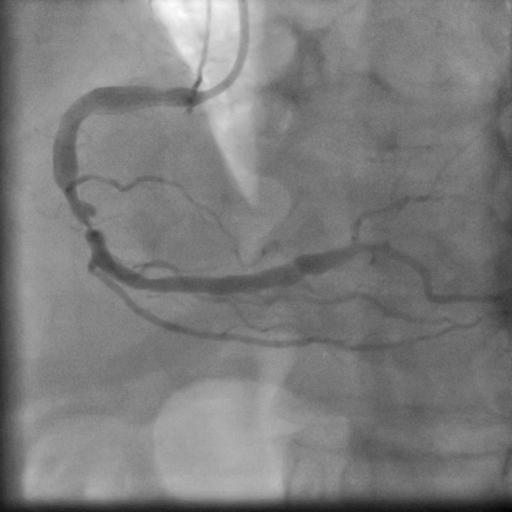Stenosis: (62, 195, 110, 242)
